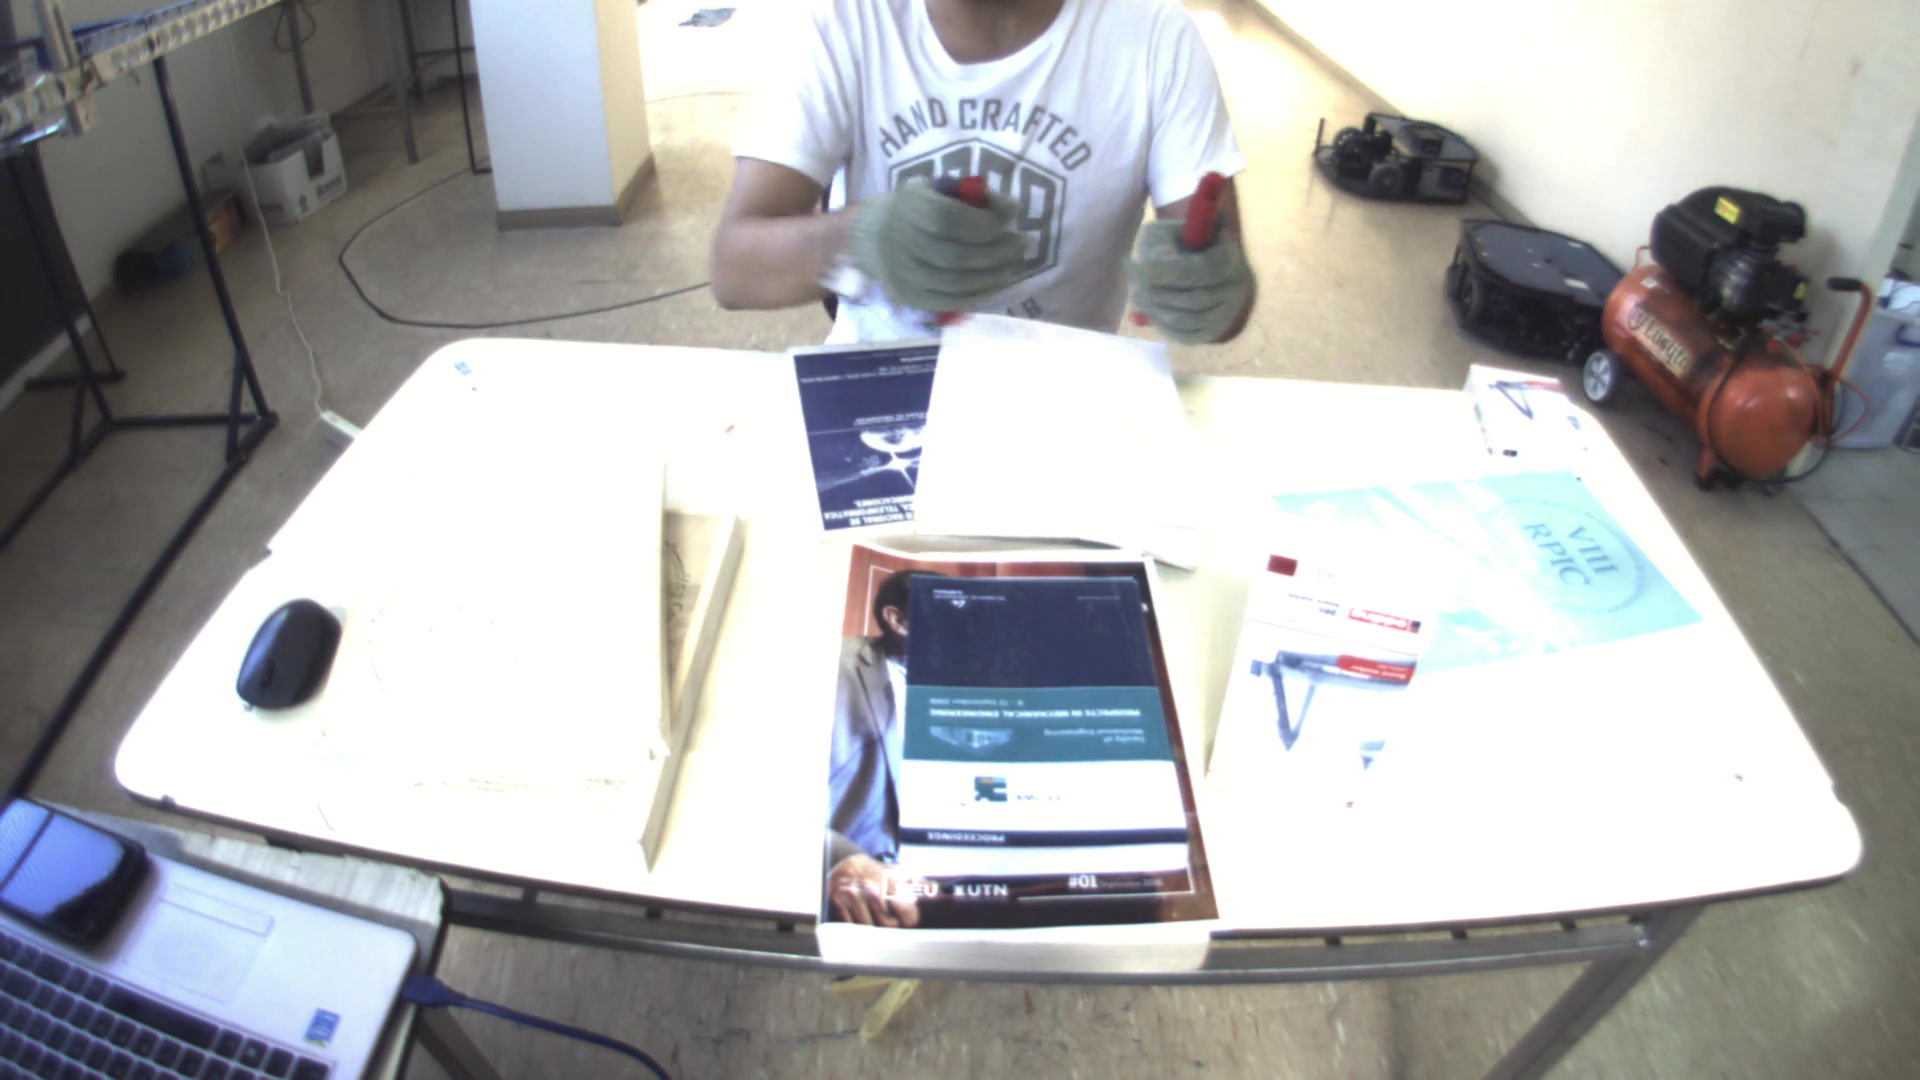hand: (831, 167, 1040, 316), (1116, 193, 1269, 343)
